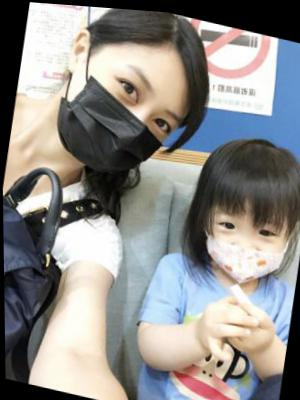OK: (50, 44, 194, 186)
WRONG: (199, 193, 295, 290)
